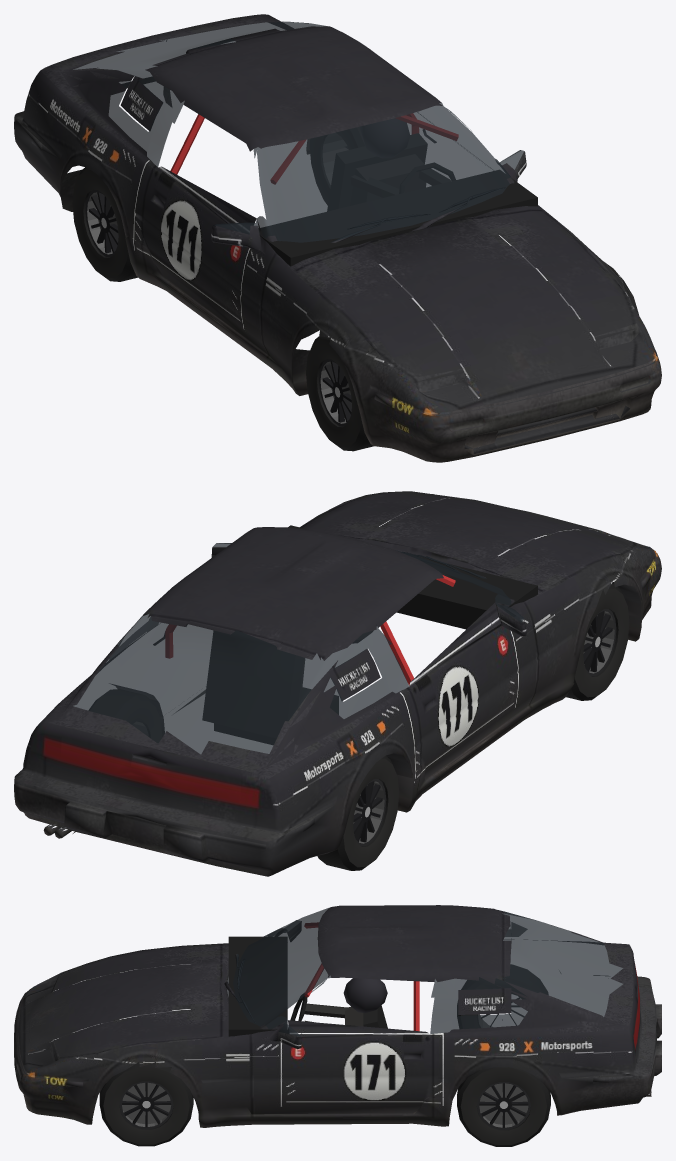
3 renders of one model, top to bottom at view 1: azimuth 30°, elevation 25°; view 2: azimuth 150°, elevation 25°; view 3: azimuth 270°, elevation 25°, orthographic. The views are drawn at different scales.
Visible parts, largest first — view 1: body, wheel_rr, wheel_fr, wheel_rl; view 2: body, wheel_rr, wheel_fr, wheel_rl; view 3: body, wheel_fl, wheel_rl, wheel_rr.
Part boxes in pixels (x1,y1,x2,y2): body: (14,14,661,462); wheel_rr: (72,167,137,281); wheel_fr: (306,336,373,451); wheel_rl: (310,127,364,204); body: (14,491,661,876); wheel_rr: (317,755,399,870); wheel_fr: (566,583,629,700); wheel_rl: (89,689,161,742); body: (14,905,661,1127); wheel_fl: (99,1062,193,1146); wheel_rl: (457,1067,550,1146); wheel_rr: (457,964,548,1028).
Size of the model in its own units: 1.9 by 1.25 by 4.41.
2 materials, 1 textured.
